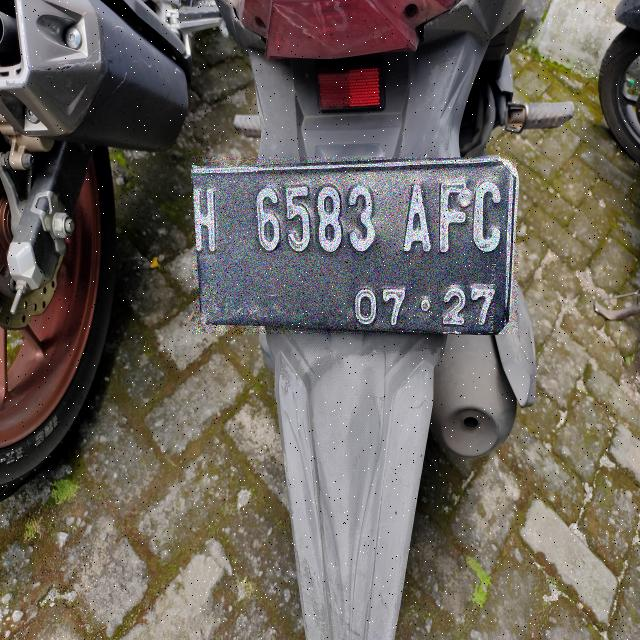plate: (192, 157, 517, 333)
